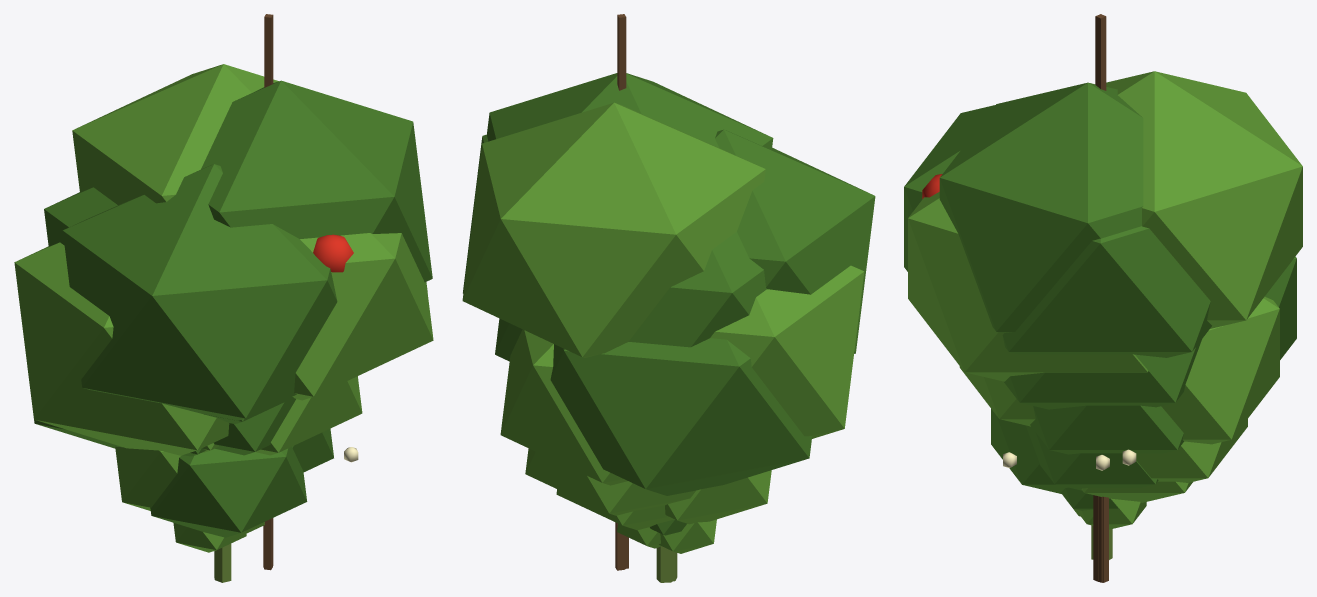
The model's file is Crop_Veg_Tomato.fbx.
3 renders of one model, left to right at view 1: azimuth 30°, elevation 25°; view 2: azimuth 150°, elevation 25°; view 3: azimuth 270°, elevation 25°, orthographic. The views are drawn at different scales.
Parts seen in each view (by area): view 1: Crop_Veg_Tomato__S4, Crop_Veg_Tomato__S2, Crop_Veg_Tomato__S5, Crop_Veg_Tomato__S3, Crop_Veg_Tomato__S1; view 2: Crop_Veg_Tomato__S4, Crop_Veg_Tomato__S3, Crop_Veg_Tomato__S5, Crop_Veg_Tomato__S2, Crop_Veg_Tomato__S1; view 3: Crop_Veg_Tomato__S4, Crop_Veg_Tomato__S3, Crop_Veg_Tomato__S5, Crop_Veg_Tomato__S2, Crop_Veg_Tomato__S1.
Boxes of the visible parts, x1,y1,x2,y2 form: Crop_Veg_Tomato__S4: (14, 14, 433, 565); Crop_Veg_Tomato__S2: (115, 428, 333, 537); Crop_Veg_Tomato__S5: (203, 376, 362, 455); Crop_Veg_Tomato__S3: (44, 187, 358, 577); Crop_Veg_Tomato__S1: (173, 518, 272, 582); Crop_Veg_Tomato__S4: (462, 14, 875, 581); Crop_Veg_Tomato__S3: (495, 232, 766, 582); Crop_Veg_Tomato__S5: (525, 448, 695, 582); Crop_Veg_Tomato__S2: (556, 470, 771, 530); Crop_Veg_Tomato__S1: (617, 519, 716, 581); Crop_Veg_Tomato__S4: (904, 14, 1302, 582); Crop_Veg_Tomato__S3: (1003, 296, 1279, 470); Crop_Veg_Tomato__S5: (959, 366, 1247, 582); Crop_Veg_Tomato__S2: (991, 409, 1192, 582); Crop_Veg_Tomato__S1: (1061, 487, 1146, 581).
Bounding box in the file's own units: 0.2446 × 0.35 × 0.2242.
